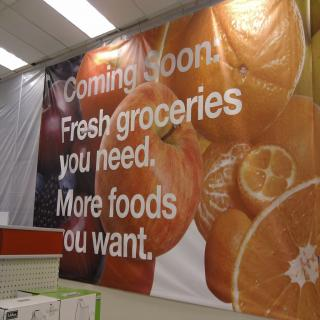Orange: (232, 173, 320, 320), (238, 139, 298, 217), (193, 145, 242, 237), (204, 208, 248, 298)
